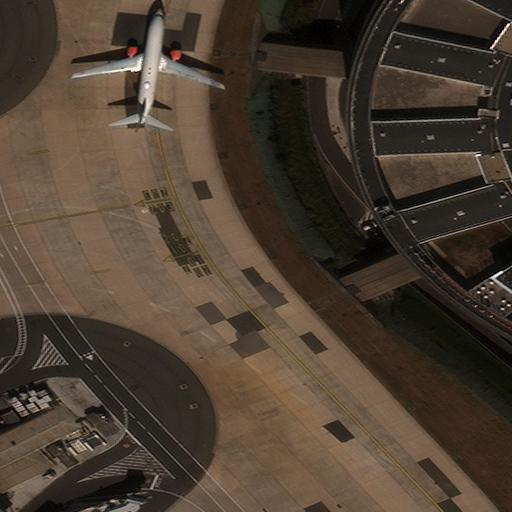Medium Civil Transport: (72, 8, 224, 124)
